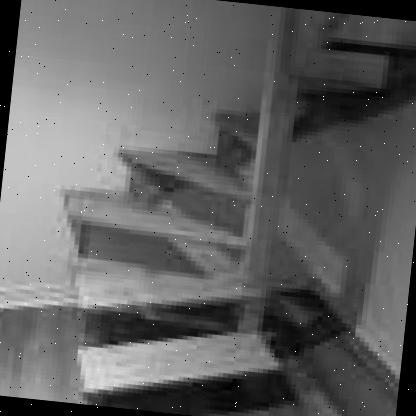stair: (31, 108, 314, 416)
